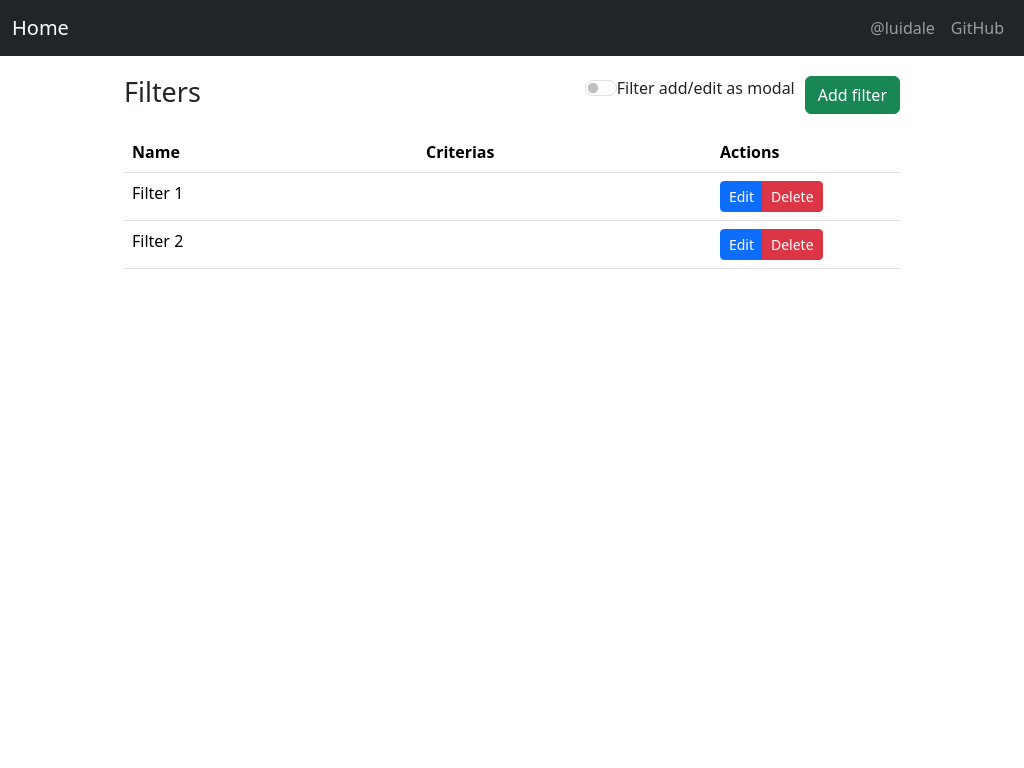
Test: FilterList Component › opens edit view in non modal-mode when Edit button is clicked
Expected: the heading "Filters" is shown, [124,73,201,110]
Note: Click on the Edit button for the first filter
Click the button "Edit" in the row of "Filter 1" at [741, 197], box [720,181,763,212]
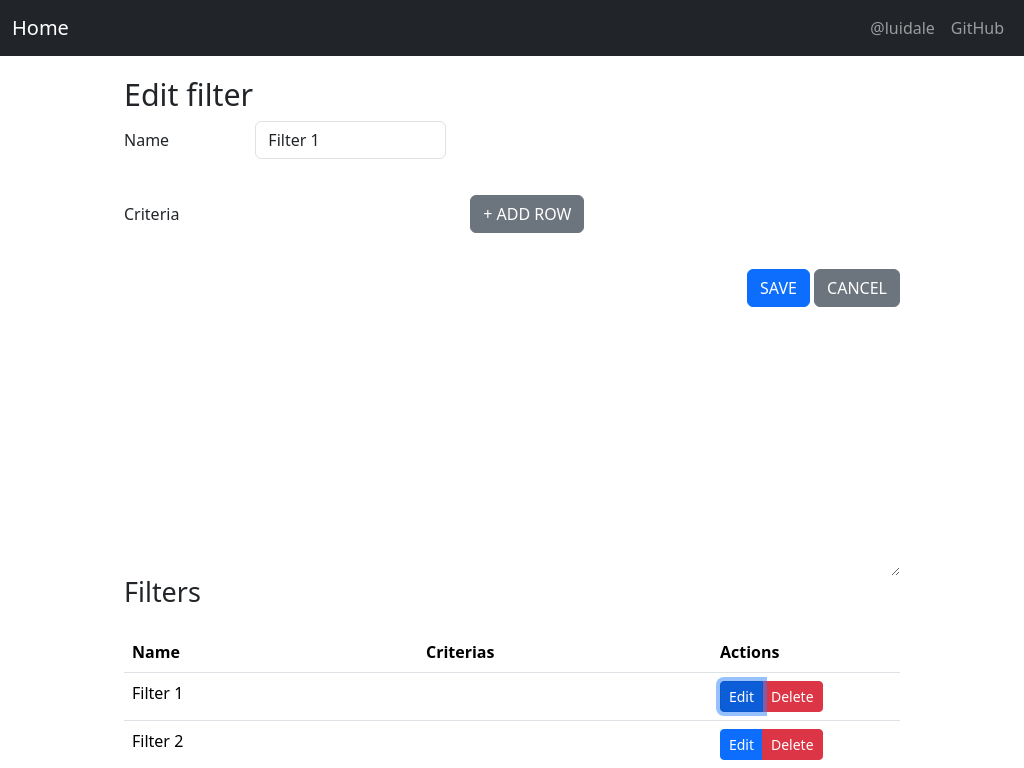
Result: the heading "Edit filter" is shown at [124,76,253,115]
